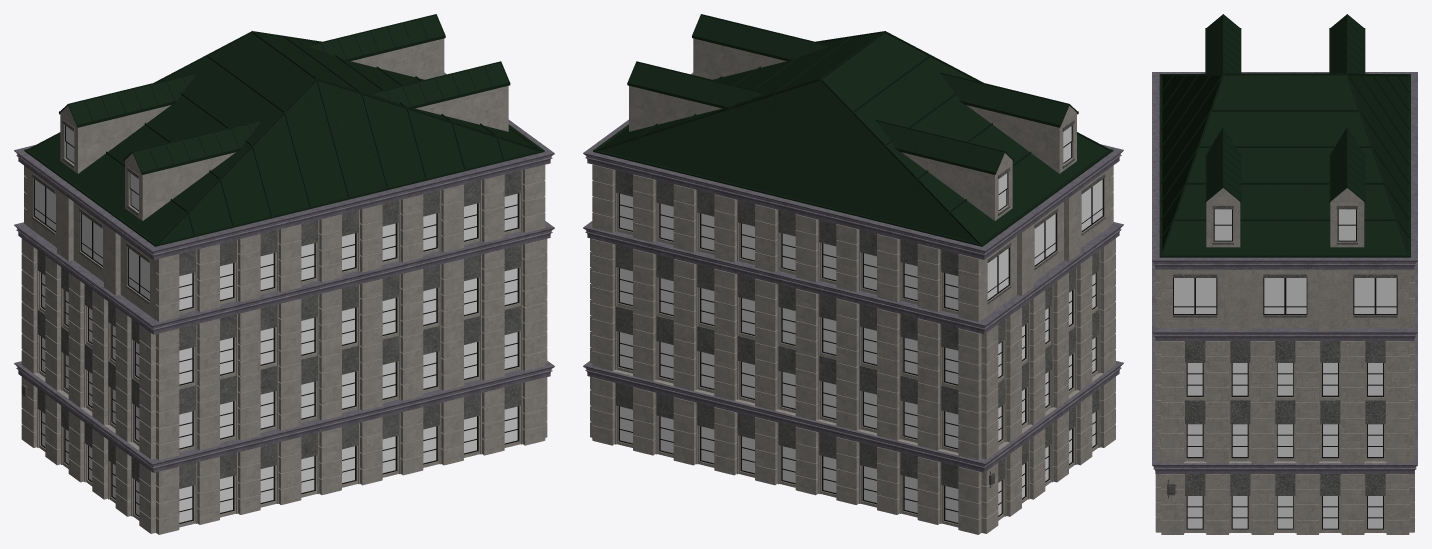
File: Building_18.fbx
3 views of the same model, side by side, from view 1: azimuth 30°, elevation 25°; view 2: azimuth 150°, elevation 25°; view 3: azimuth 270°, elevation 25° (orthographic). The views are drawn at different scales.
Parts seen in each view (by area): view 1: Building_18_LOD0; view 2: Building_18_LOD0; view 3: Building_18_LOD0.
Part boxes in pixels (left/top/right/bottom): Building_18_LOD0: left=14, top=14, right=554, bottom=534; Building_18_LOD0: left=583, top=14, right=1123, bottom=534; Building_18_LOD0: left=1152, top=14, right=1417, bottom=534.
Size of what is drawn, in the model's own units: 2415 by 2201 by 1437.
